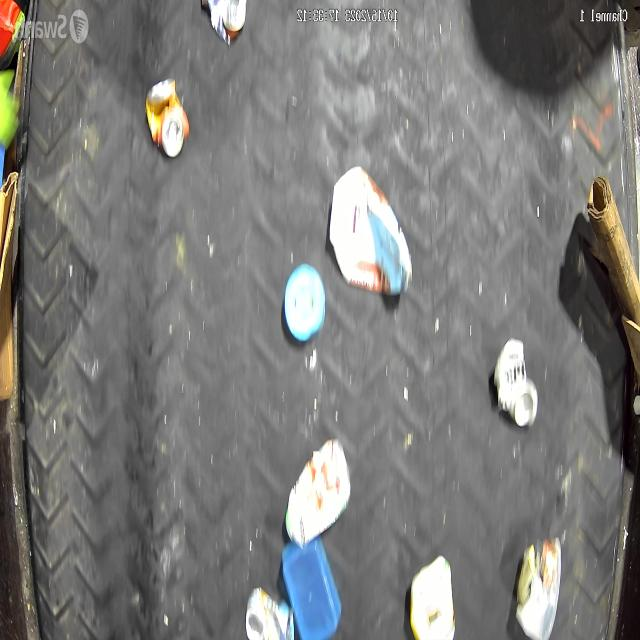can: (492, 328, 538, 443), (142, 78, 194, 170), (242, 586, 296, 640)
milk_jug: (329, 170, 412, 298), (284, 436, 348, 550)
